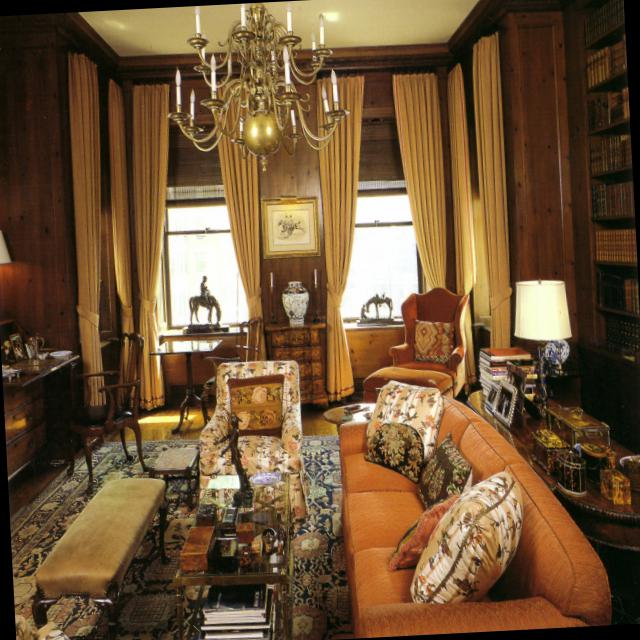2001: (162, 208, 247, 325), (342, 196, 420, 320)
2027: (180, 522, 217, 571)
bookcase crop: (581, 0, 640, 361)
books crop: (478, 346, 532, 397), (586, 34, 626, 91), (596, 270, 638, 314), (589, 86, 628, 133), (590, 133, 631, 174), (584, 0, 622, 44), (592, 182, 634, 217), (595, 227, 636, 262), (603, 316, 640, 354)
box contants: (220, 508, 237, 537), (235, 522, 254, 541)
candle holder: (312, 266, 320, 322), (269, 269, 276, 324)
candle stick: (554, 341, 565, 376)
ceiling beam: (78, 0, 478, 57)
chair -occluded-: (198, 361, 307, 519), (66, 329, 149, 493), (388, 287, 468, 399), (200, 316, 260, 415)
chair desk occluded: (16, 613, 70, 640)
chandelier: (168, 2, 352, 173)
couch -x: (338, 399, 610, 635)
curtain crop: (211, 77, 267, 361), (315, 75, 362, 400), (68, 50, 106, 405), (472, 32, 510, 346), (132, 81, 168, 410), (393, 71, 447, 287), (109, 78, 138, 405), (448, 62, 475, 291)
decorative boox: (599, 445, 620, 467)
decorative box -X: (546, 404, 609, 444), (531, 428, 568, 473), (555, 450, 585, 494), (600, 465, 630, 503), (579, 442, 608, 481), (625, 460, 640, 491)
desk calendar: (2, 349, 79, 480)
dish -X: (27, 330, 46, 356), (3, 368, 23, 381), (37, 352, 50, 360)
end table: (264, 312, 329, 405)
figurine -X: (357, 291, 396, 326)
frame: (506, 358, 541, 426)
horse: (183, 273, 231, 332)
lamp: (0, 229, 14, 265)
lamp crop: (513, 280, 569, 401)
ottoman: (361, 365, 453, 404)
picture crop: (262, 197, 320, 255), (493, 379, 518, 427), (7, 330, 27, 361), (484, 380, 497, 411)
pillow occluded: (409, 471, 522, 601), (367, 381, 443, 458), (388, 490, 459, 569), (416, 429, 472, 510), (363, 420, 424, 482), (228, 374, 285, 434), (413, 317, 453, 359)
plate food: (545, 340, 570, 367), (618, 453, 640, 472), (253, 471, 281, 485), (49, 350, 72, 357)
roman shade: (166, 129, 224, 208), (357, 123, 406, 197)
rug -partially obscured-: (10, 433, 351, 640)
small sculpture -X: (261, 524, 286, 554)
stack of books: (200, 581, 275, 640)
statue: (215, 413, 254, 505)
stool crop: (32, 474, 168, 640)
table -X: (467, 389, 640, 552), (173, 471, 290, 640), (150, 338, 224, 432), (322, 401, 368, 422)
vase -X: (283, 280, 308, 323)
wall clock: (0, 0, 640, 447)
wicker ottoman: (151, 445, 198, 510)
